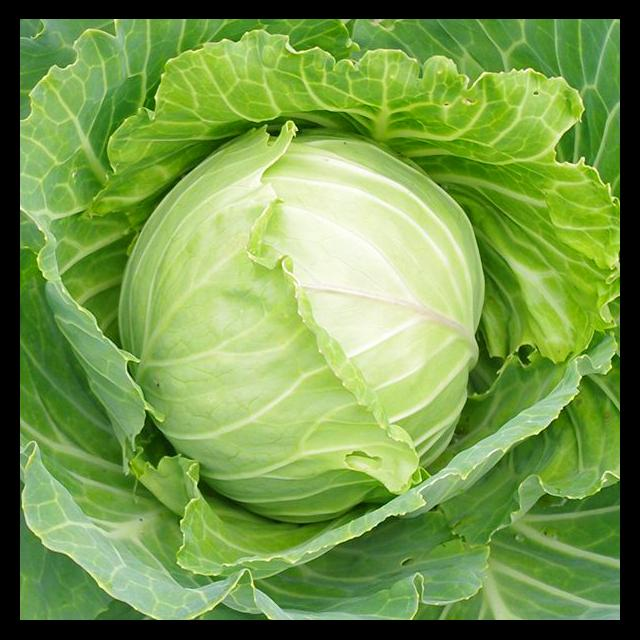cabbage: (88, 91, 570, 576)
